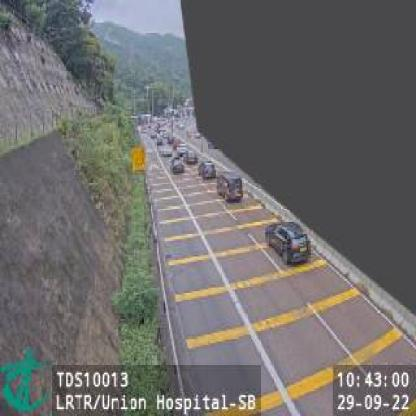Car: (262, 220, 310, 262), (216, 170, 243, 197), (198, 161, 217, 177), (169, 154, 185, 173), (182, 147, 195, 163)
